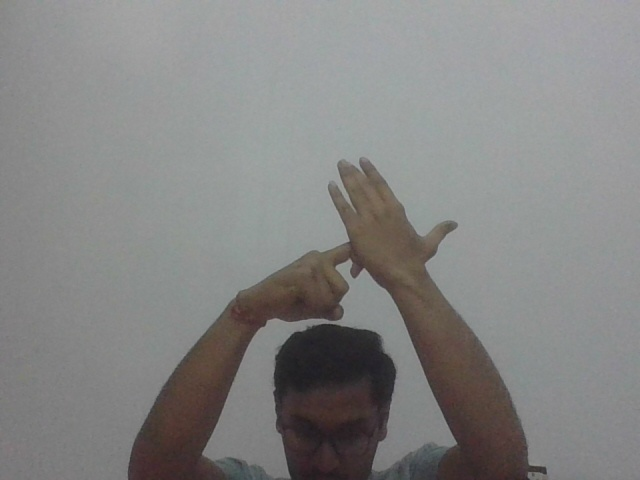R: (279, 155, 463, 326)
